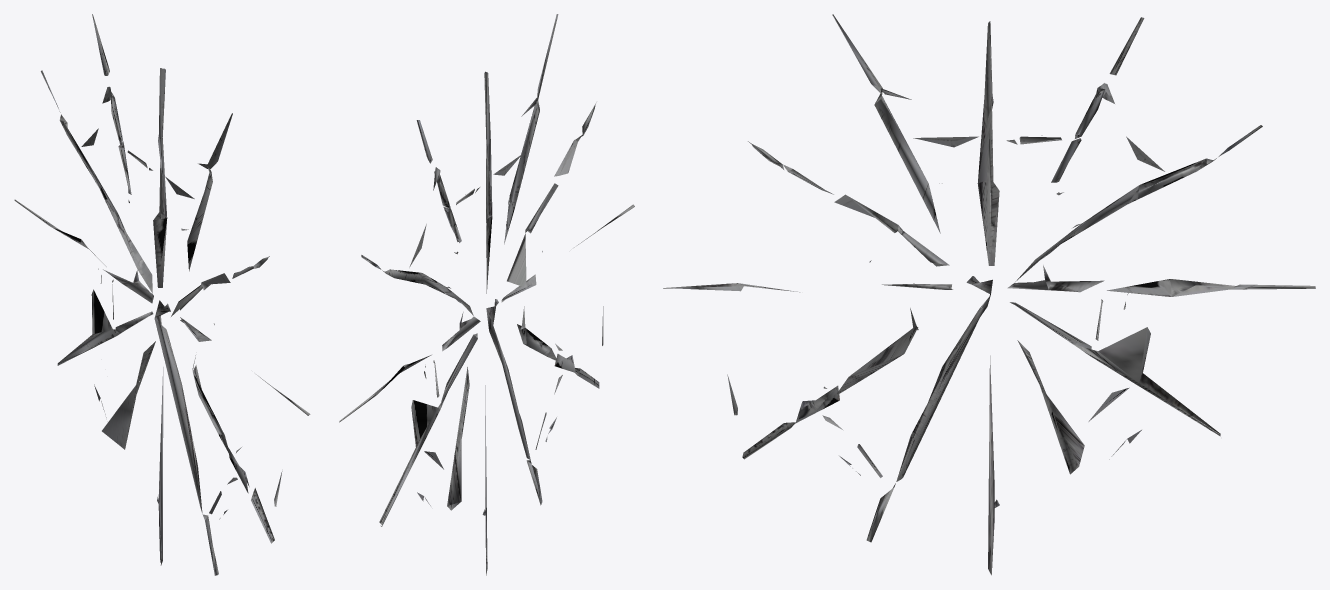
The model's file is Spoder wab.fbx.
3 renders of one model, left to right at view 1: azimuth 30°, elevation 25°; view 2: azimuth 150°, elevation 25°; view 3: azimuth 270°, elevation 25°, orthographic. The views are drawn at different scales.
Visible parts, largest first — view 1: tripo_node_a0919fbd; view 2: tripo_node_a0919fbd; view 3: tripo_node_a0919fbd.
Part boxes in pixels (<box>): tripo_node_a0919fbd: <box>14,14,310,575</box>; tripo_node_a0919fbd: <box>339,14,634,575</box>; tripo_node_a0919fbd: <box>663,14,1315,575</box>.
Bounding box in the file's own units: 5.15 × 92.75 × 97.67.
1 material, 1 textured.
